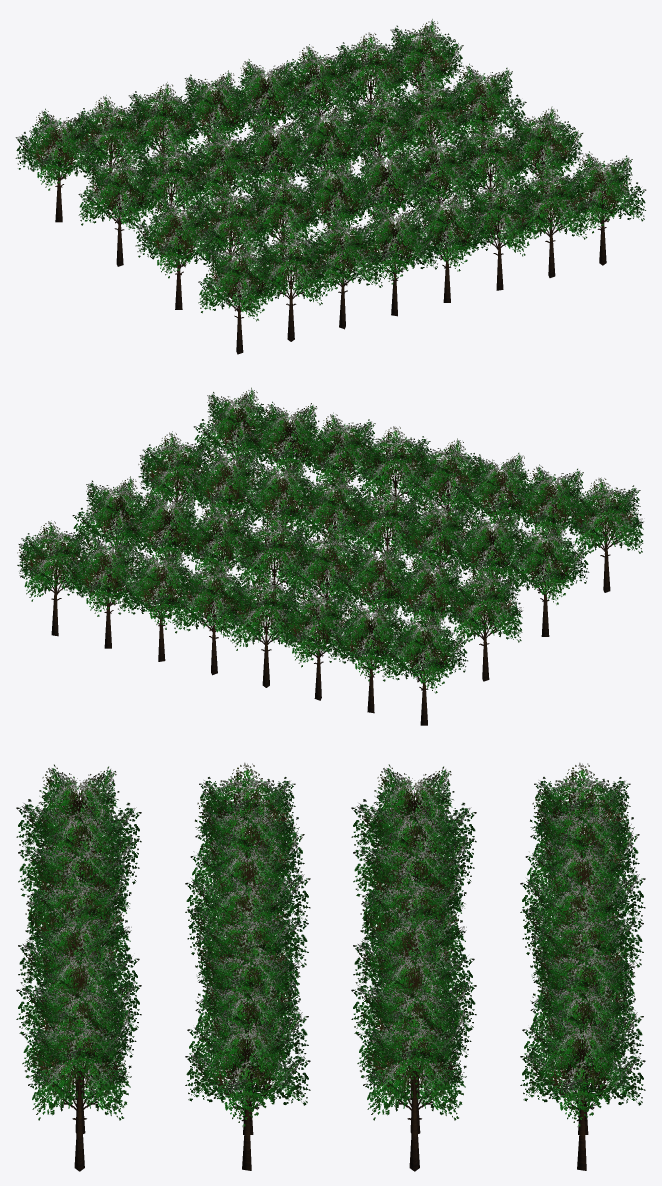
File: boomgaard_1.fbx
3 renders of one model, top to bottom at view 1: azimuth 30°, elevation 25°; view 2: azimuth 150°, elevation 25°; view 3: azimuth 270°, elevation 25°, orthographic. The views are drawn at different scales.
Visible parts, largest first — view 1: fruitboomgaard_1; view 2: fruitboomgaard_1; view 3: fruitboomgaard_1.
Part boxes in pixels (box(x1,y1,x2,y2)): fruitboomgaard_1: box(15, 19, 646, 354); fruitboomgaard_1: box(17, 387, 643, 725); fruitboomgaard_1: box(16, 762, 645, 1171).
Bounding box in the file's own units: 2143 × 478 × 1892.
